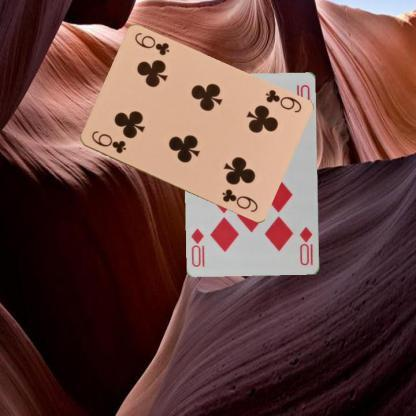10d: (296, 224, 314, 267)
6c: (262, 86, 302, 115), (89, 128, 128, 154)
